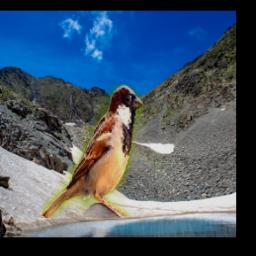Sparrow: (43, 85, 144, 219)
